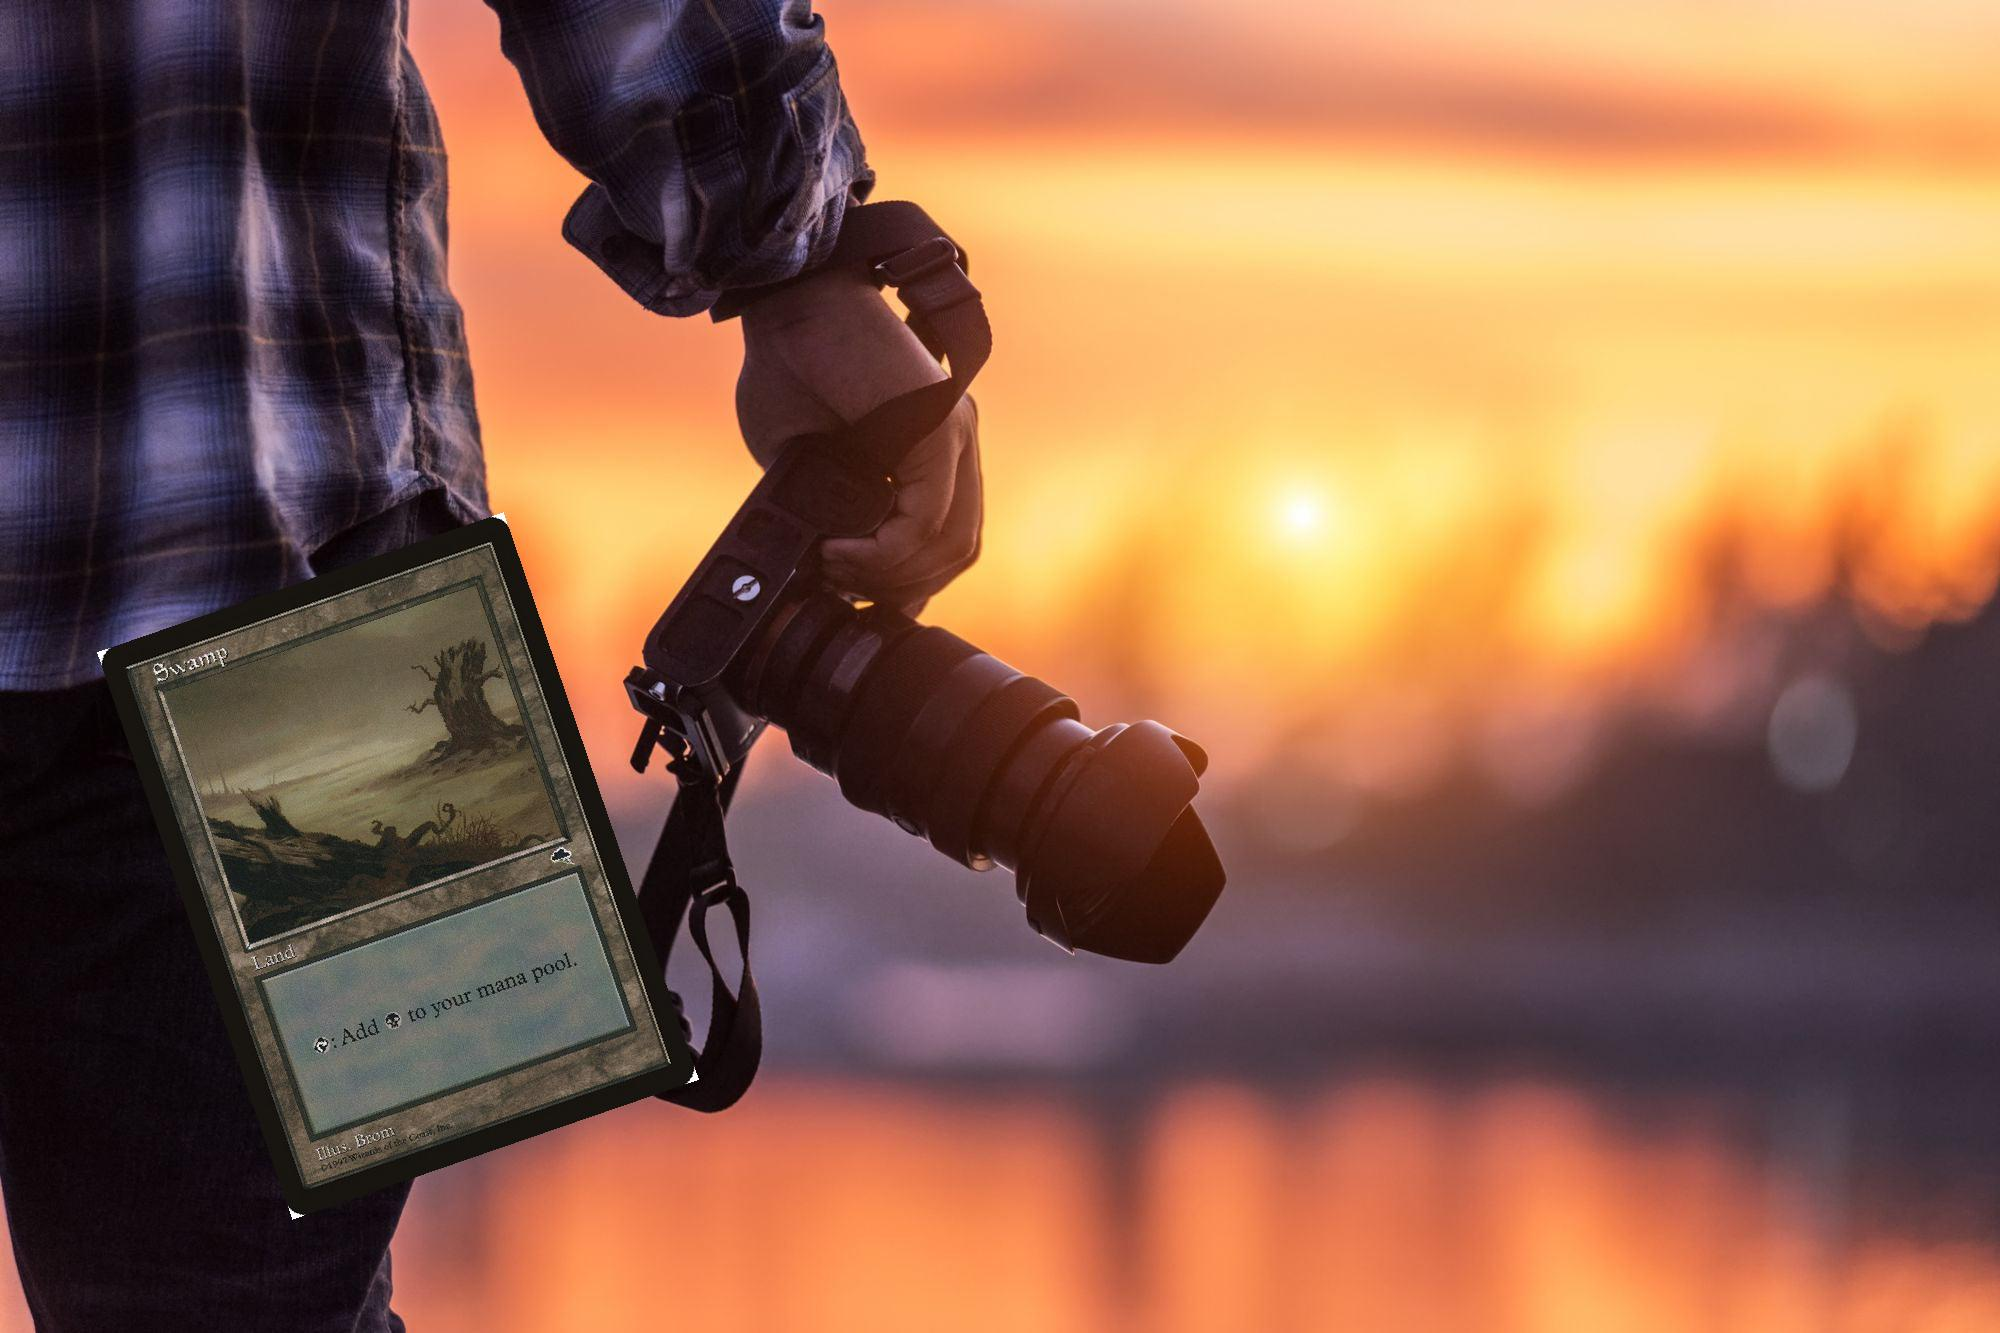mtgCard: (97, 512, 699, 1220)
